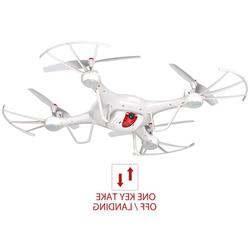drone: (2, 40, 249, 157)
